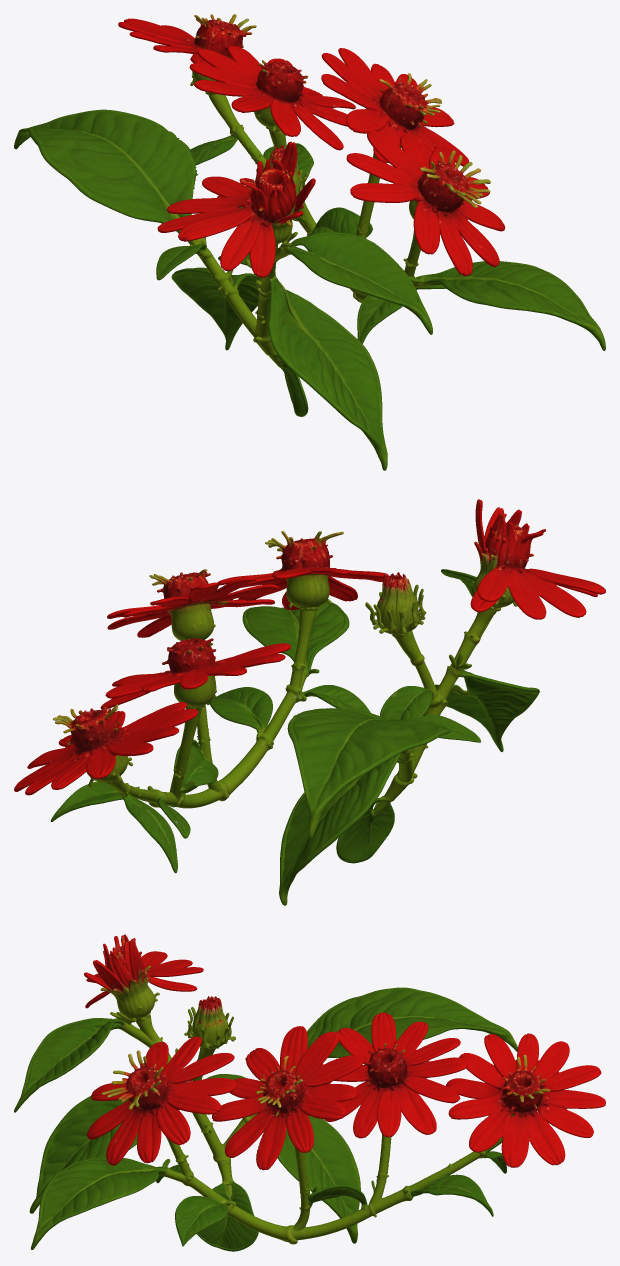
The model's file is oseudogynoxys.fbx.
3 views of the same model, one above another, from view 1: azimuth 30°, elevation 25°; view 2: azimuth 150°, elevation 25°; view 3: azimuth 270°, elevation 25° (orthographic). The views are drawn at different scales.
Visible parts, largest first — view 1: tripo_node_0076e7c5; view 2: tripo_node_0076e7c5; view 3: tripo_node_0076e7c5.
Boxes of the visible parts, box(x1,y1,x2,y2) form: tripo_node_0076e7c5: box(14, 14, 605, 470); tripo_node_0076e7c5: box(14, 499, 605, 905); tripo_node_0076e7c5: box(14, 934, 605, 1251).
Size of the model in its own units: 63.25 by 52.13 by 97.9.
Materials: 1 (1 with a texture image).
